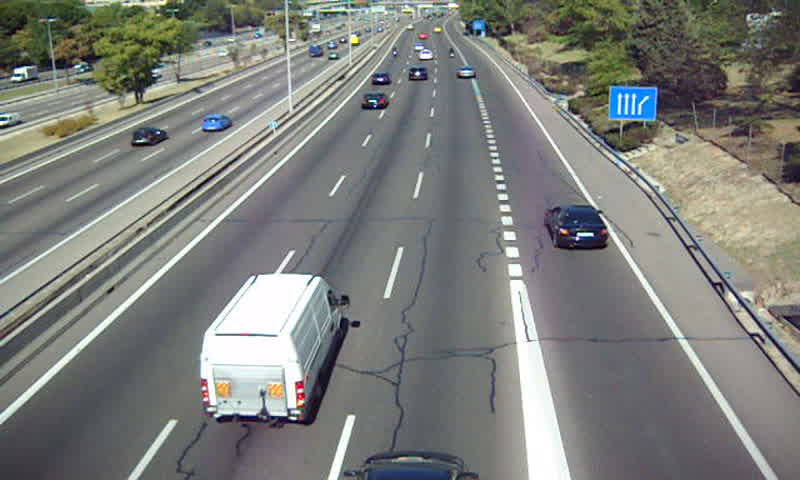car: (546, 206, 607, 247), (362, 91, 387, 108), (406, 66, 427, 83), (369, 71, 392, 86), (456, 65, 476, 80), (417, 48, 436, 60)
van: (199, 275, 350, 426)
